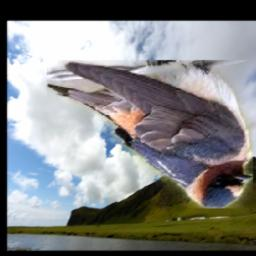Swallow: (47, 61, 253, 209)
